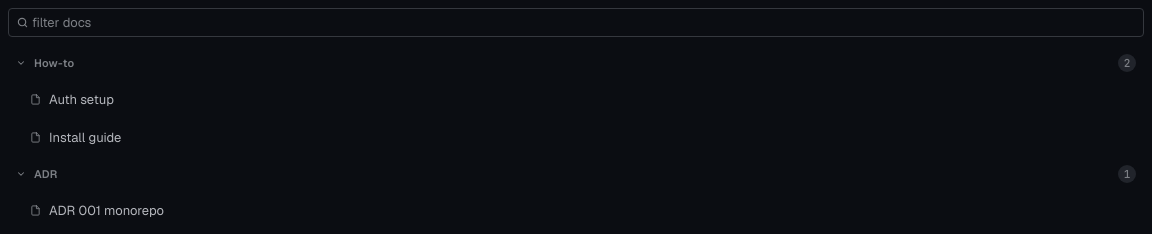
Scenario: DocTree › should narrow visible items when the filter input is typed into
Check: the list item "Install guide" is shown, box x1=30 y1=129 x2=121 y2=146
In the search field named "filter documents": (584,22) x1=32 y1=9 x2=1135 y2=36, type "auth"
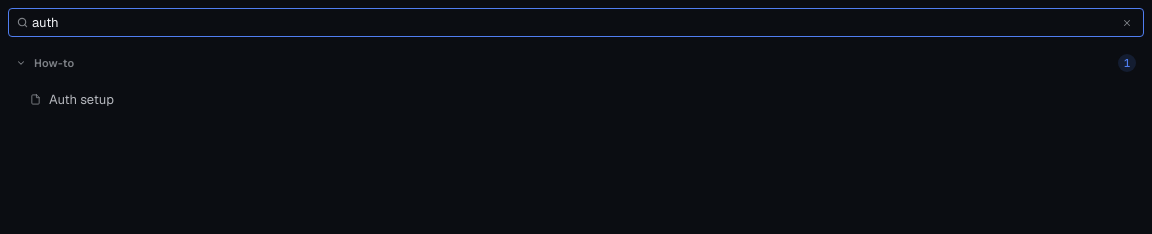
Check: the list item "Auth setup" is shown, box x1=30 y1=91 x2=114 y2=108
Check: the list item "Install guide" is gone
Check: the list item "ADR 001" is gone
